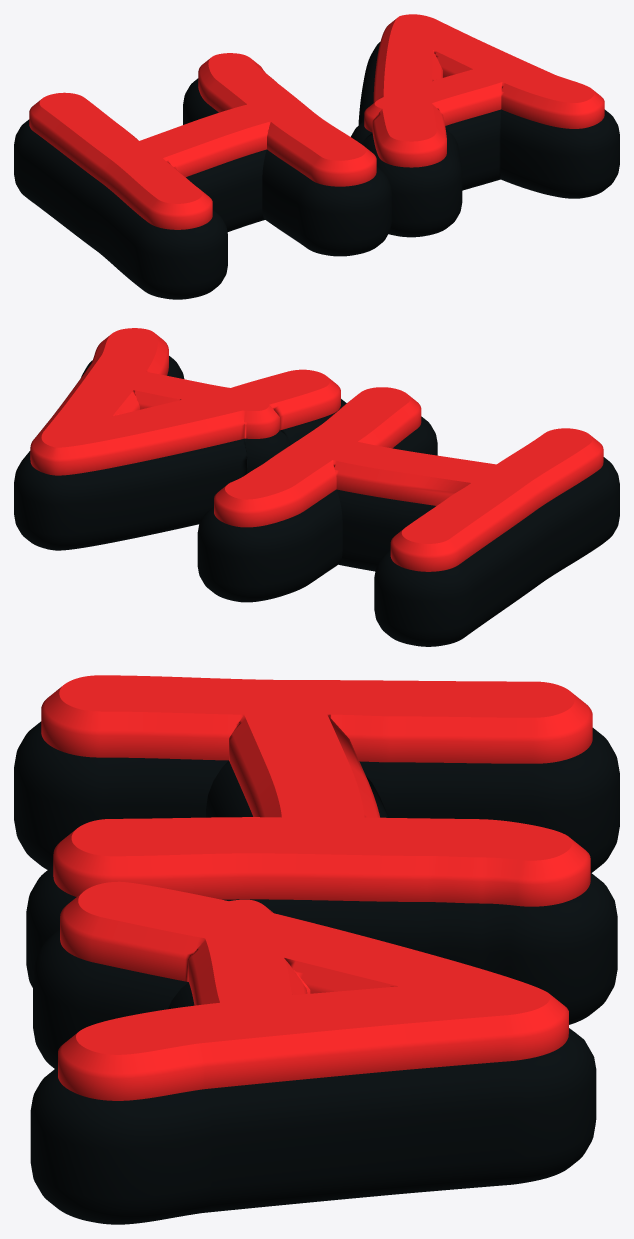
The picture shows the model from 3 angles, top to bottom: view 1: azimuth 30°, elevation 25°; view 2: azimuth 150°, elevation 25°; view 3: azimuth 270°, elevation 25°; orthographic projection. The views are drawn at different scales.
Parts seen in each view (by area): view 1: Text, Text.001; view 2: Text.001, Text; view 3: Text.001, Text.
Boxes of the visible parts, left/top/right/bottom form: Text: left=14, top=42, right=619, bottom=299; Text.001: left=29, top=14, right=604, bottom=229; Text.001: left=30, top=328, right=603, bottom=571; Text: left=14, top=356, right=619, bottom=646; Text.001: left=41, top=675, right=592, bottom=1100; Text: left=14, top=721, right=619, bottom=1224.
Size of the model in its own units: 109 by 20.2 by 66.88.
